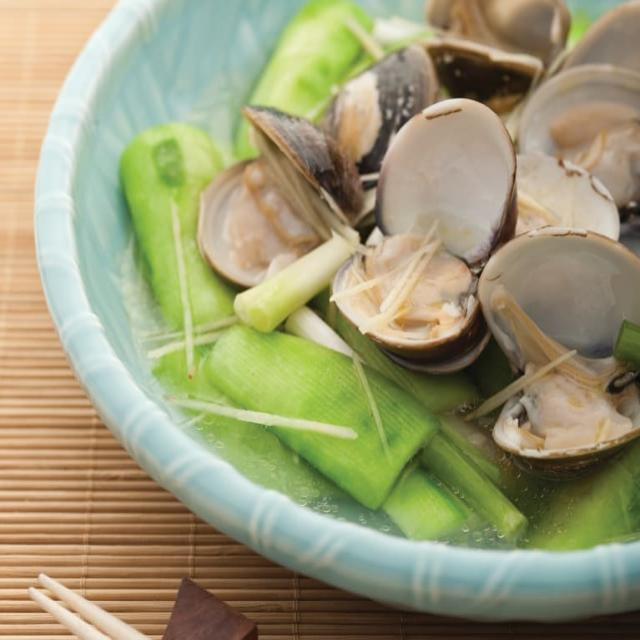Wet: (162, 0, 638, 494)
